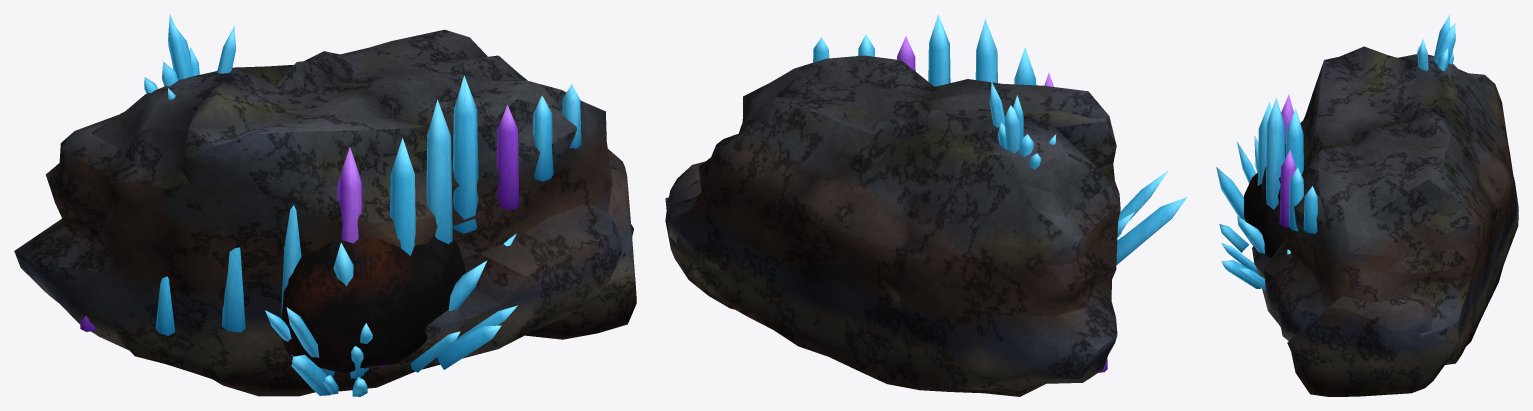
The model's file is geode_seam_a.glb.
3 views of the same model, side by side, from view 1: azimuth 30°, elevation 25°; view 2: azimuth 150°, elevation 25°; view 3: azimuth 270°, elevation 25° (orthographic). The views are drawn at different scales.
Parts seen in each view (by area): view 1: geode_seam_a; view 2: geode_seam_a; view 3: geode_seam_a.
Boxes of the visible parts, bbox=[...] form: geode_seam_a: bbox=[14, 14, 636, 396]; geode_seam_a: bbox=[665, 14, 1187, 396]; geode_seam_a: bbox=[1216, 14, 1518, 396].
Size of the model in its own units: 7.5 by 4.67 by 4.87.
Materials: 4 (4 with a texture image).
